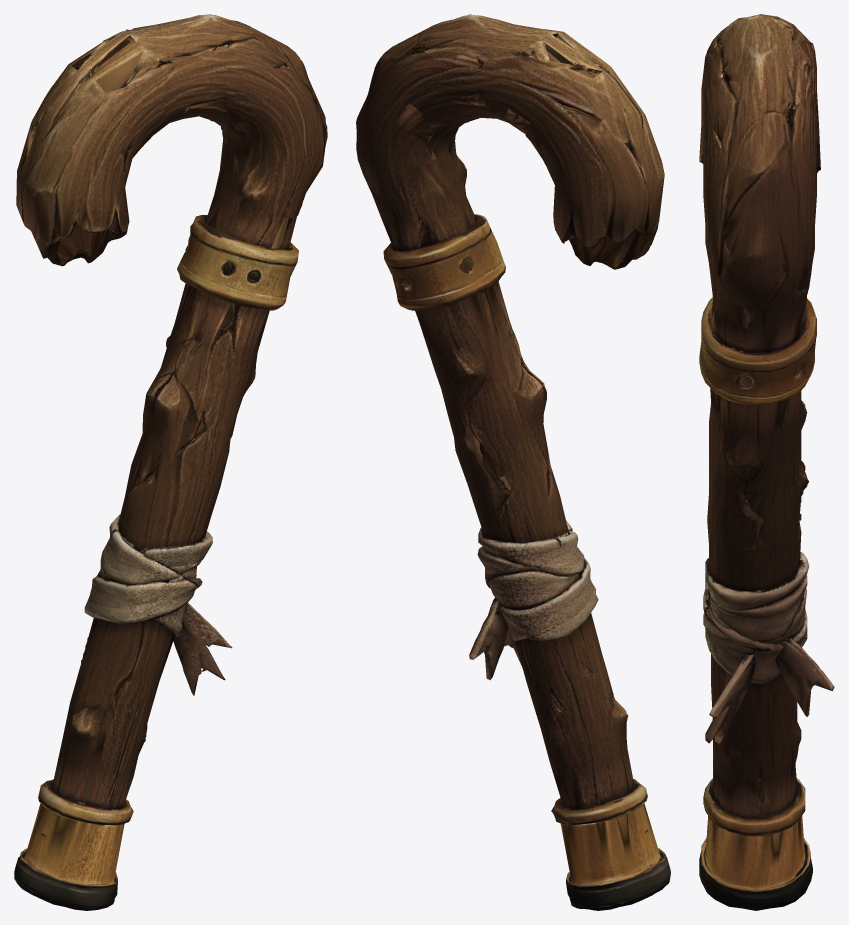
File: shabby_club.fbx
3 views of the same model, side by side, from view 1: azimuth 30°, elevation 25°; view 2: azimuth 150°, elevation 25°; view 3: azimuth 270°, elevation 25° (orthographic). The views are drawn at different scales.
Visible parts, largest first — view 1: tripo_node_d6cefd9e; view 2: tripo_node_d6cefd9e; view 3: tripo_node_d6cefd9e.
Part boxes in pixels (x1,y1,x2,y2): tripo_node_d6cefd9e: (14,14,327,910); tripo_node_d6cefd9e: (356,14,670,910); tripo_node_d6cefd9e: (699,14,834,910).
Size of the model in its own units: 0.373 by 0.998 by 0.1348.
Materials: 1 (1 with a texture image).
